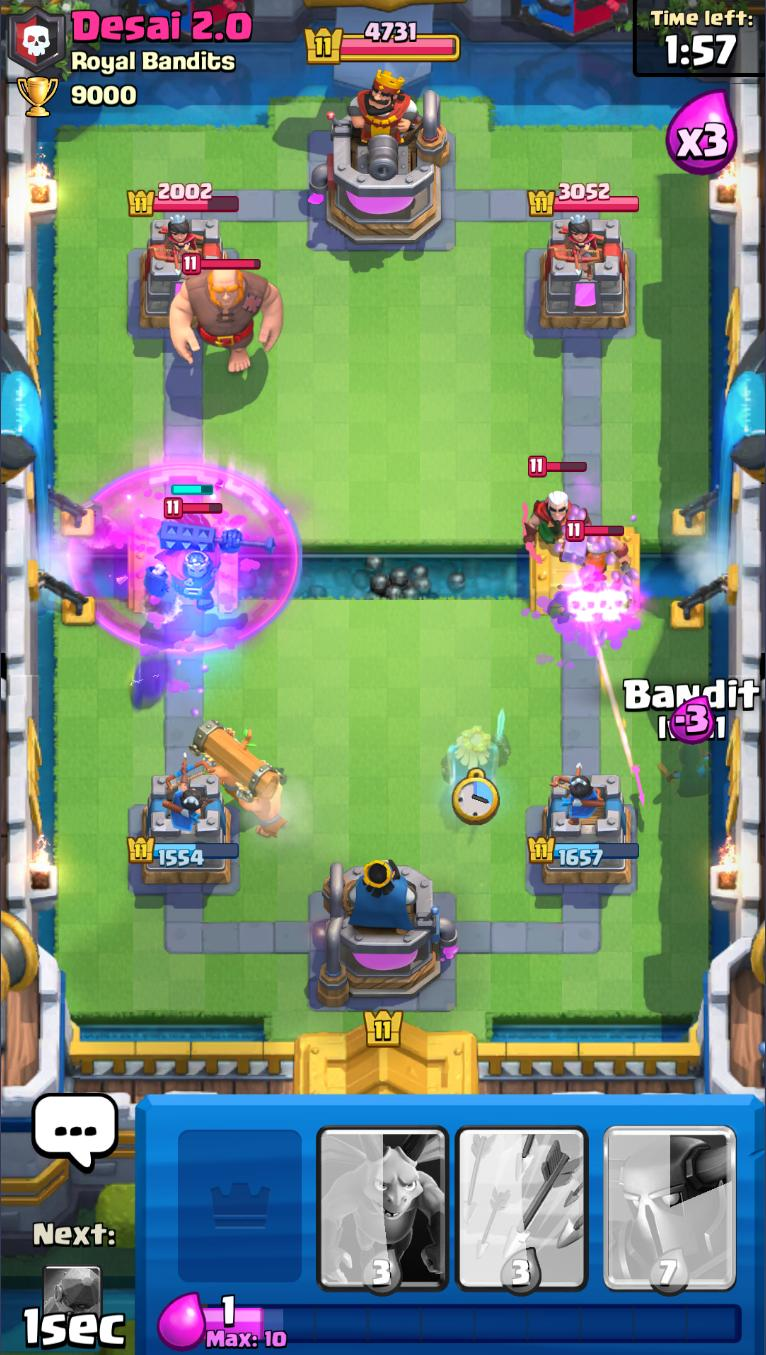ArrowDeck: (451, 1096, 594, 1296)
BattleRamNext: (41, 1264, 103, 1343)
Elixir: (203, 1294, 744, 1351)
Empty: (166, 1096, 311, 1294)
EnemyTower: (136, 214, 234, 334), (539, 214, 633, 333)
Giant: (169, 253, 286, 374)
KingTower: (309, 79, 454, 250)
KingTowerHP: (307, 20, 461, 64)
Lumberjack: (559, 517, 639, 586)
MagicArcher: (524, 454, 589, 561)
MinionsDeck: (313, 1099, 451, 1297)
MyBattleRam: (190, 717, 289, 840)
MyKingTower: (314, 859, 460, 1011)
MyPrincessTower: (124, 770, 240, 893), (527, 771, 641, 889)
MyPrincessTowerHP: (124, 834, 241, 867), (526, 834, 641, 866)
MyRoyaleGhost: (441, 709, 510, 806)
PekkaDeck: (597, 1094, 741, 1299)
PrincessTower: (147, 217, 206, 266), (550, 217, 604, 266)
Rage: (66, 464, 301, 651)
SkeletonKing: (144, 483, 276, 611)
TowerPrincessHP: (127, 181, 240, 217), (530, 183, 641, 217)
